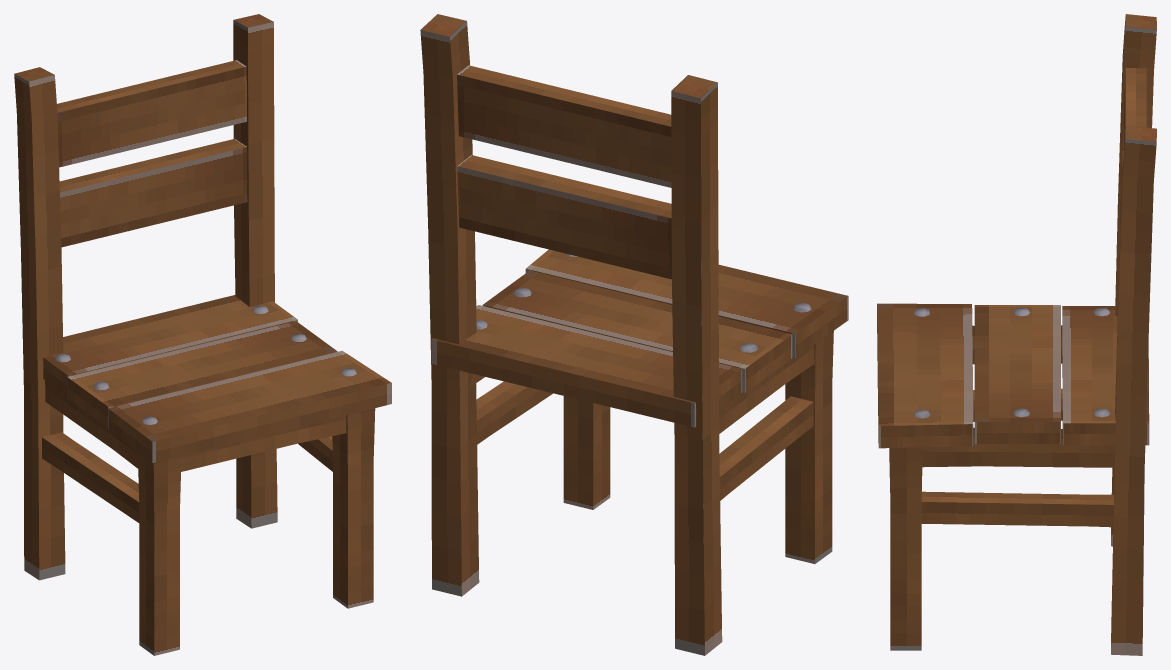
File: chair-DVUd0tXM.glb
3 renders of one model, left to right at view 1: azimuth 30°, elevation 25°; view 2: azimuth 150°, elevation 25°; view 3: azimuth 270°, elevation 25°, orthographic. The views are drawn at different scales.
Size of the model in its own units: 0.5805 by 1.12 by 0.5489.
1 material, 1 textured.
